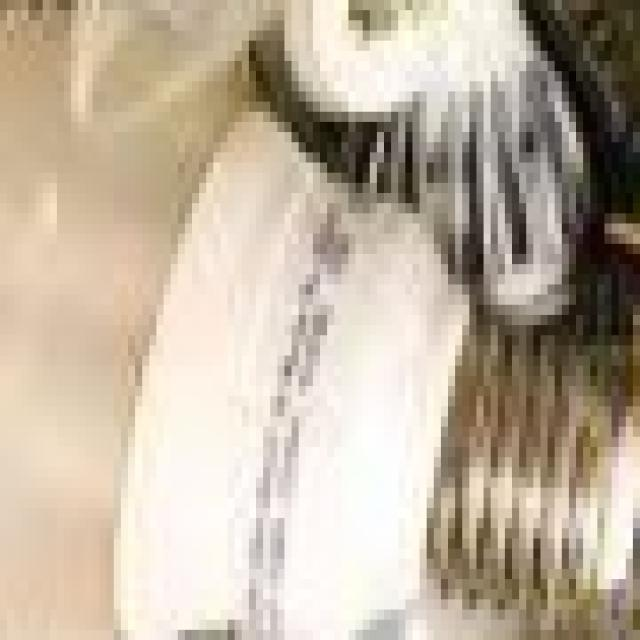bulb: (0, 11, 634, 630)
